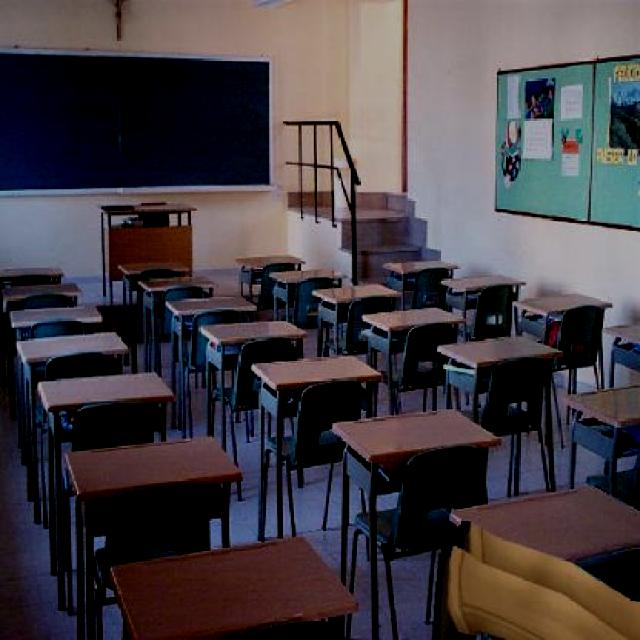Person: (430, 518, 639, 638)
